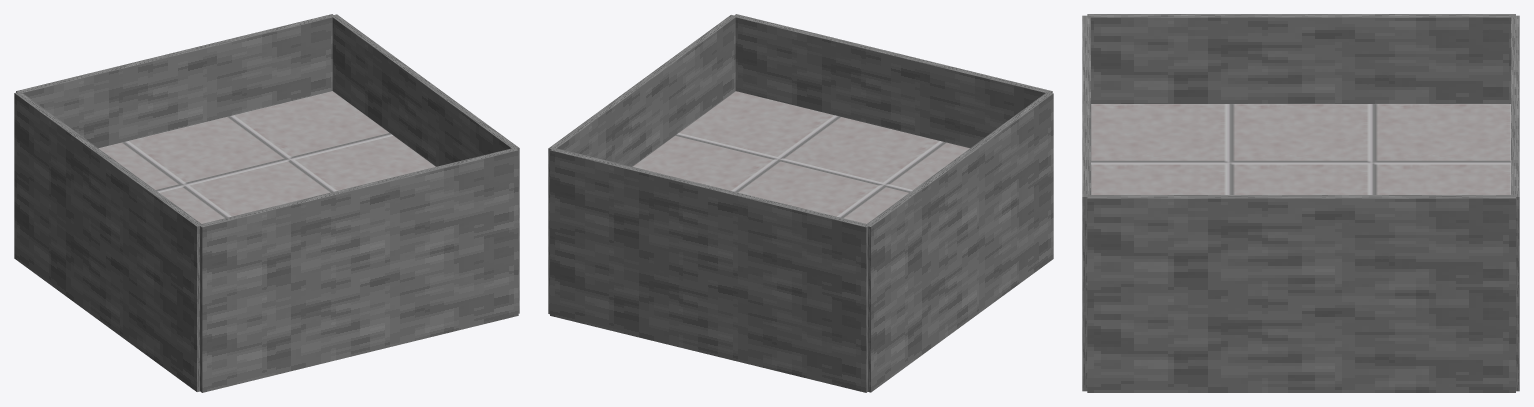
The model's file is Room.gltf.
The picture shows the model from 3 angles, left to right: view 1: azimuth 30°, elevation 25°; view 2: azimuth 150°, elevation 25°; view 3: azimuth 270°, elevation 25°; orthographic projection. The views are drawn at different scales.
Parts seen in each view (by area): view 1: EastWall, SouhWall, Cieling, WestWall, NorthWall; view 2: WestWall, SouhWall, Cieling, EastWall, NorthWall; view 3: NorthWall, Cieling, SouhWall, EastWall, WestWall.
Boxes of the visible parts, bbox=[...] form: EastWall: bbox=[200, 148, 518, 392]; SouhWall: bbox=[14, 92, 202, 391]; Cieling: bbox=[99, 91, 435, 223]; WestWall: bbox=[16, 14, 335, 148]; NorthWall: bbox=[331, 14, 519, 313]; WestWall: bbox=[550, 147, 869, 392]; SouhWall: bbox=[865, 92, 1053, 392]; Cieling: bbox=[632, 91, 969, 223]; EastWall: bbox=[733, 14, 1052, 147]; NorthWall: bbox=[548, 15, 736, 314]; NorthWall: bbox=[1087, 195, 1515, 392]; Cieling: bbox=[1086, 104, 1510, 284]; SouhWall: bbox=[1087, 14, 1515, 103]; EastWall: bbox=[1082, 15, 1090, 391]; WestWall: bbox=[1511, 15, 1519, 391].
Bounding box in the file's own units: 51 × 25 × 51.
Materials: 2 (2 with a texture image).
